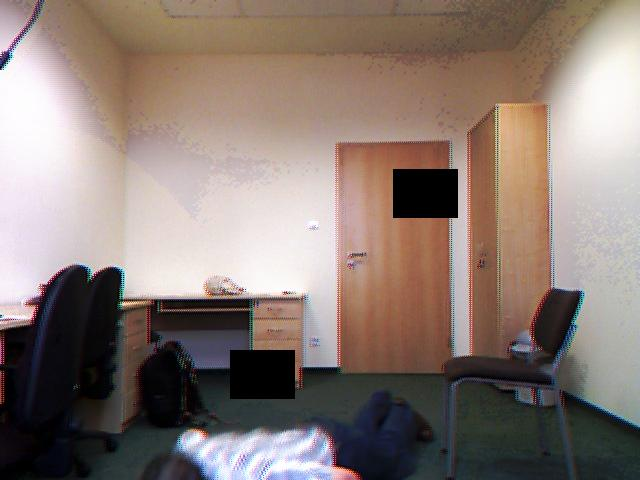fall: (152, 383, 435, 480)
